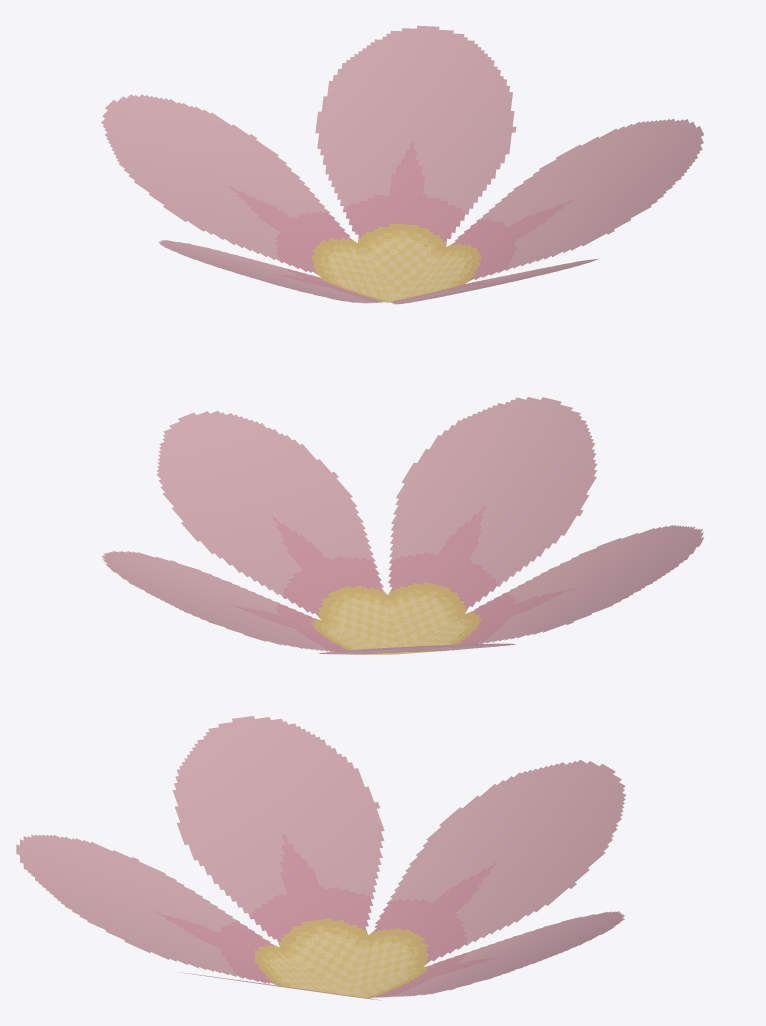
Rendered from 02fd_Pink_Flower.glb.
3 renders of one model, top to bottom at view 1: azimuth 30°, elevation 25°; view 2: azimuth 150°, elevation 25°; view 3: azimuth 270°, elevation 25°, orthographic. The views are drawn at different scales.
Parts seen in each view (by area): view 1: part_0; view 2: part_0; view 3: part_0.
Part boxes in pixels (x1,y1,x2,y2): part_0: [101, 25, 704, 304]; part_0: [101, 397, 704, 654]; part_0: [16, 716, 626, 1000].
Bounding box in the file's own units: 0.0761 × 0.016 × 0.0724.
1 material, 1 textured.
